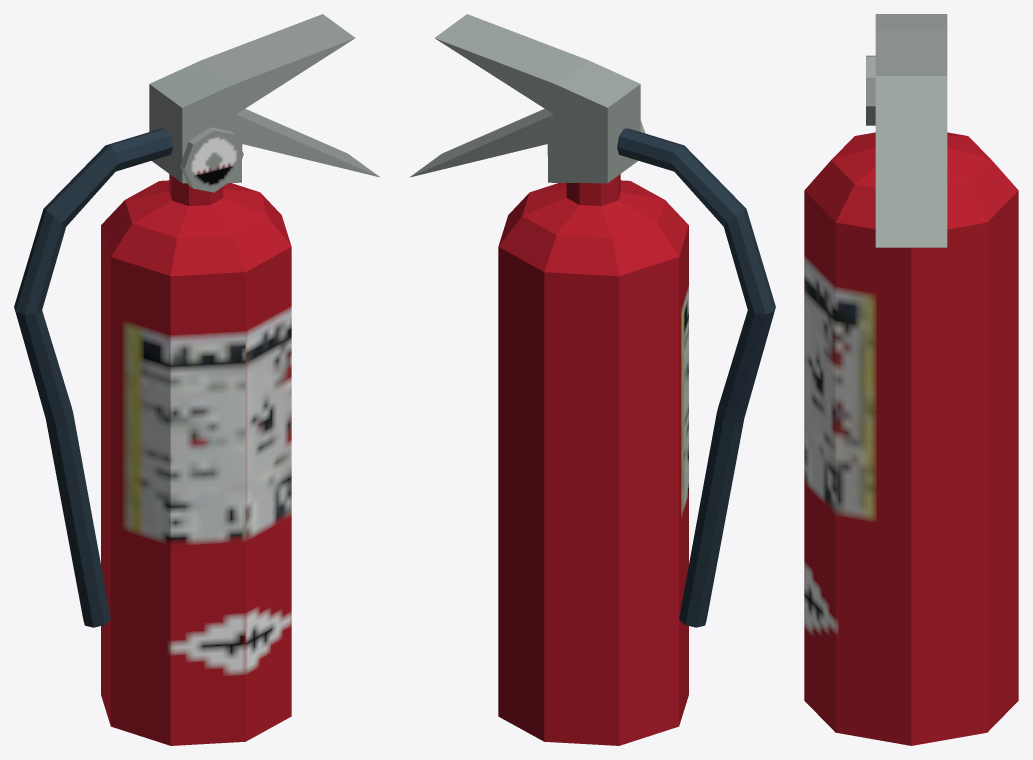
Rendered from FireEstingisher.fbx.
3 views of the same model, side by side, from view 1: azimuth 30°, elevation 25°; view 2: azimuth 150°, elevation 25°; view 3: azimuth 270°, elevation 25° (orthographic). The views are drawn at different scales.
Visible parts, largest first — view 1: Fire exinguisher; view 2: Fire exinguisher; view 3: Fire exinguisher.
Part boxes in pixels (left/top/right/bottom): Fire exinguisher: left=14, top=14, right=380, bottom=745; Fire exinguisher: left=409, top=14, right=775, bottom=745; Fire exinguisher: left=804, top=14, right=1018, bottom=745.
Bounding box in the file's own units: 62.53 × 110 × 30.63.
